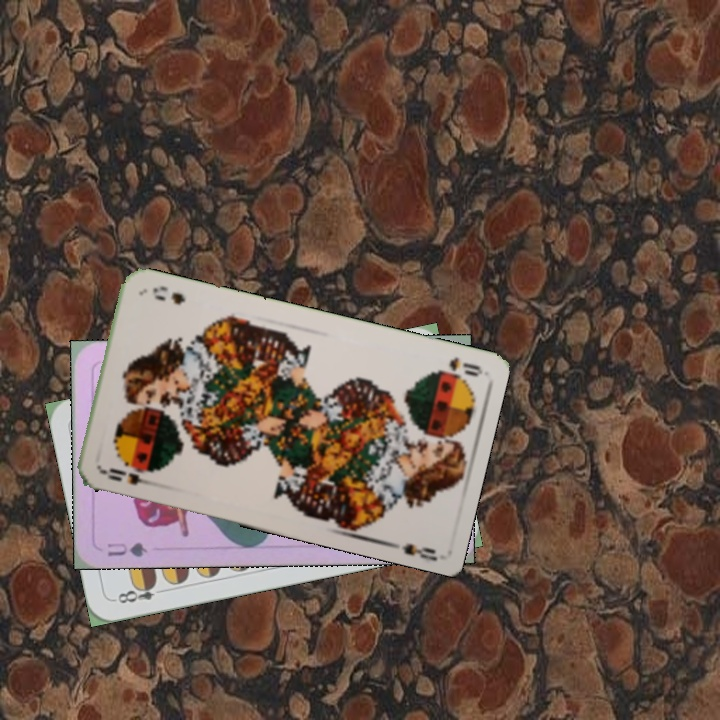E8: (110, 577, 169, 606)
GU: (103, 539, 151, 560)
SO: (99, 464, 158, 489), (445, 353, 484, 379)
